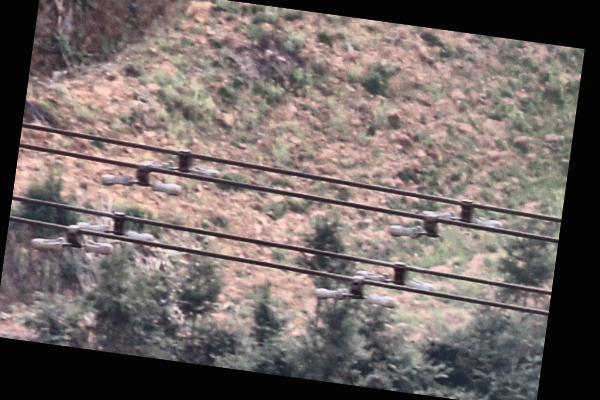damper: (99, 161, 182, 197), (29, 222, 113, 257), (313, 275, 399, 309), (138, 146, 221, 181), (420, 196, 504, 230), (71, 209, 156, 241), (355, 259, 437, 292)
damper_defect: (387, 212, 445, 242)
